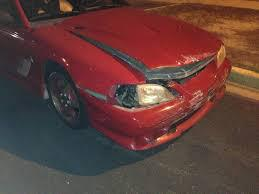Headlight-Damage: (104, 76, 180, 110)
bonnet-dent: (81, 4, 221, 72)
front-bumper-dent: (133, 101, 198, 148)
